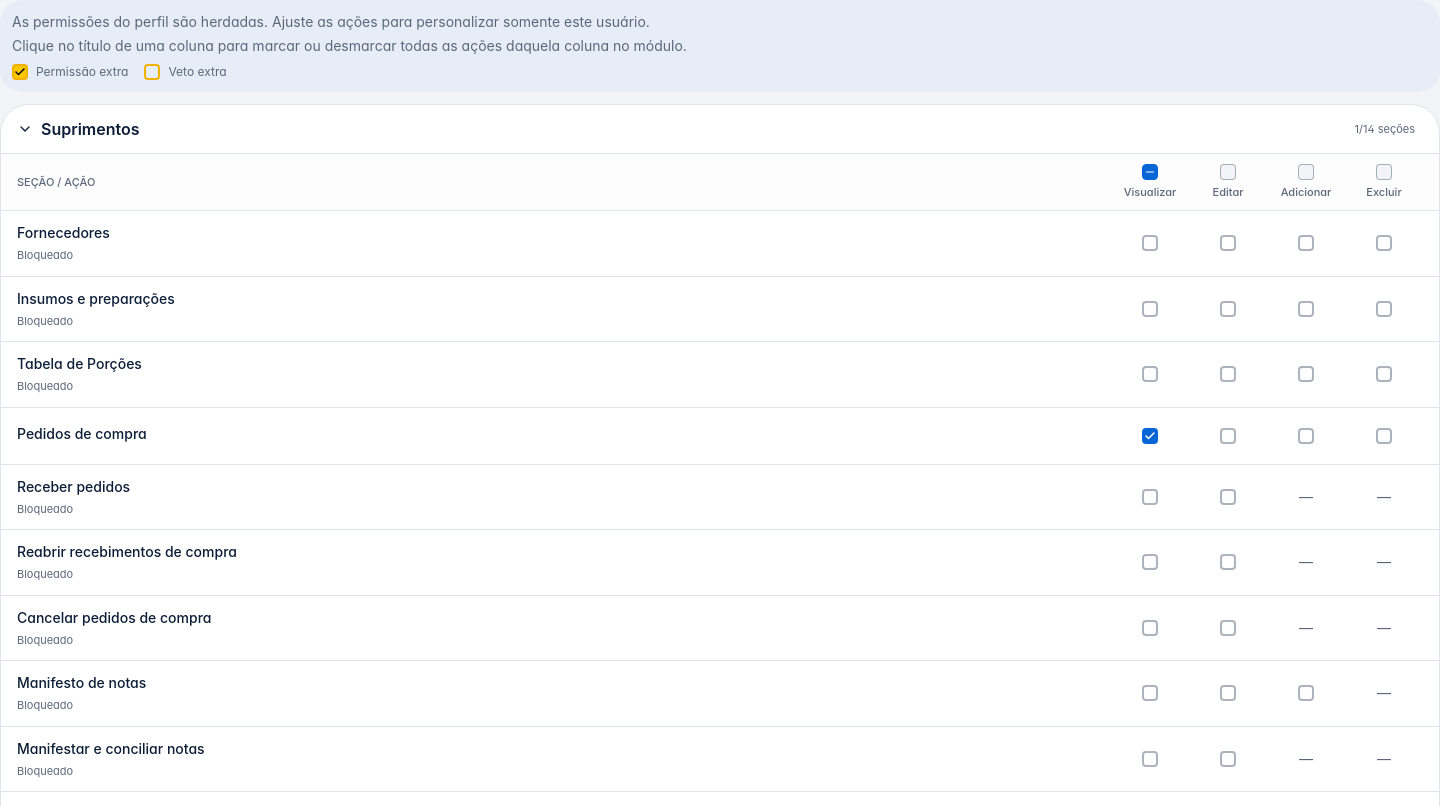
Test: matriz amigável de permissões › destaca a exceção e restaura o perfil sem alterar a base
Click the checkbox named "Pedidos de compra: Editar". click: (1228,436)
box: [1220,428,1236,444]
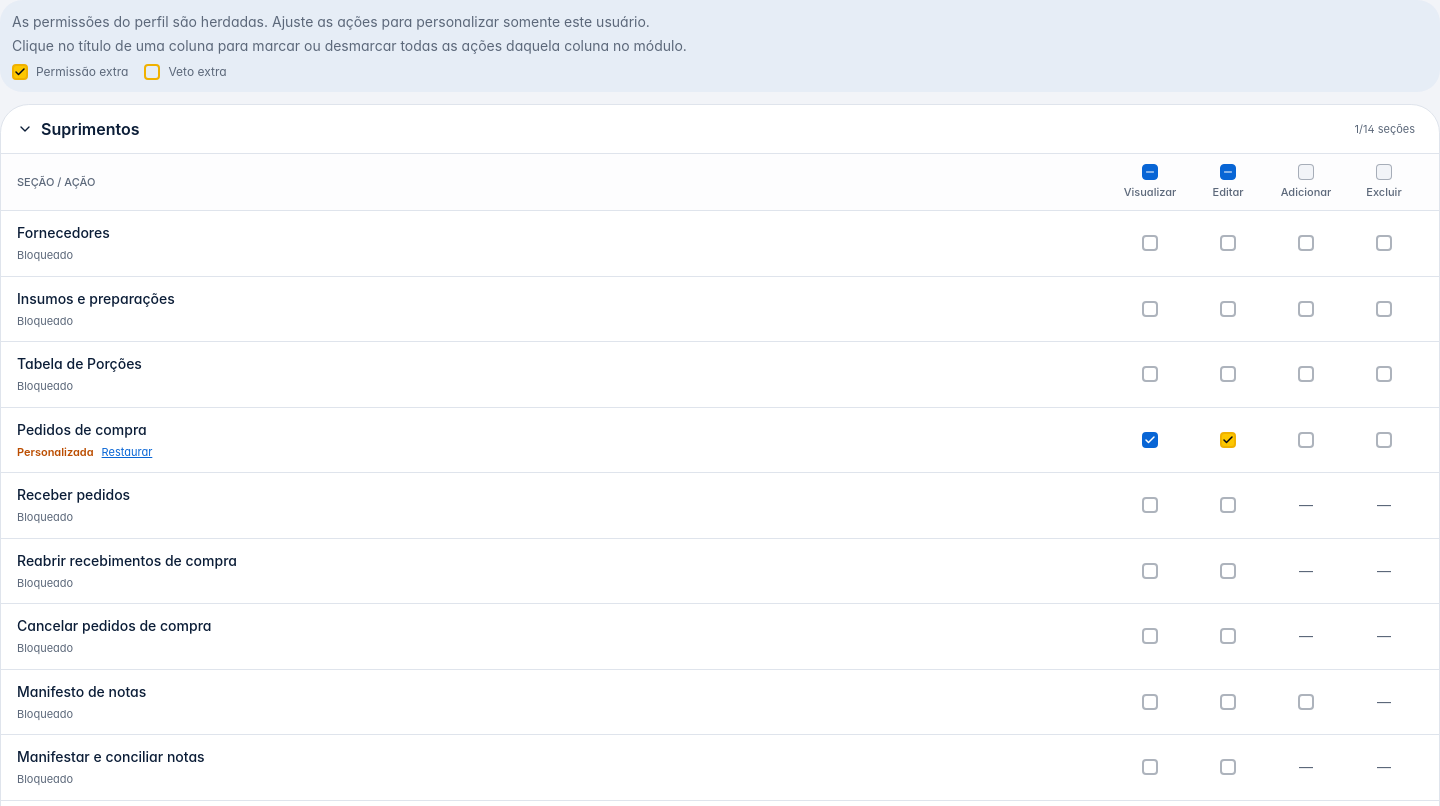
expect the checkbox named "Pedidos de compra: Editar" is checked: met, box [1220,432,1236,448]
expect the text "Personalizada" is shown: met, box [17,444,94,460]
Click the button with aria-label "Restaurar perfil em Pedidos de compra". click: (127,452)
box: [102,444,152,460]
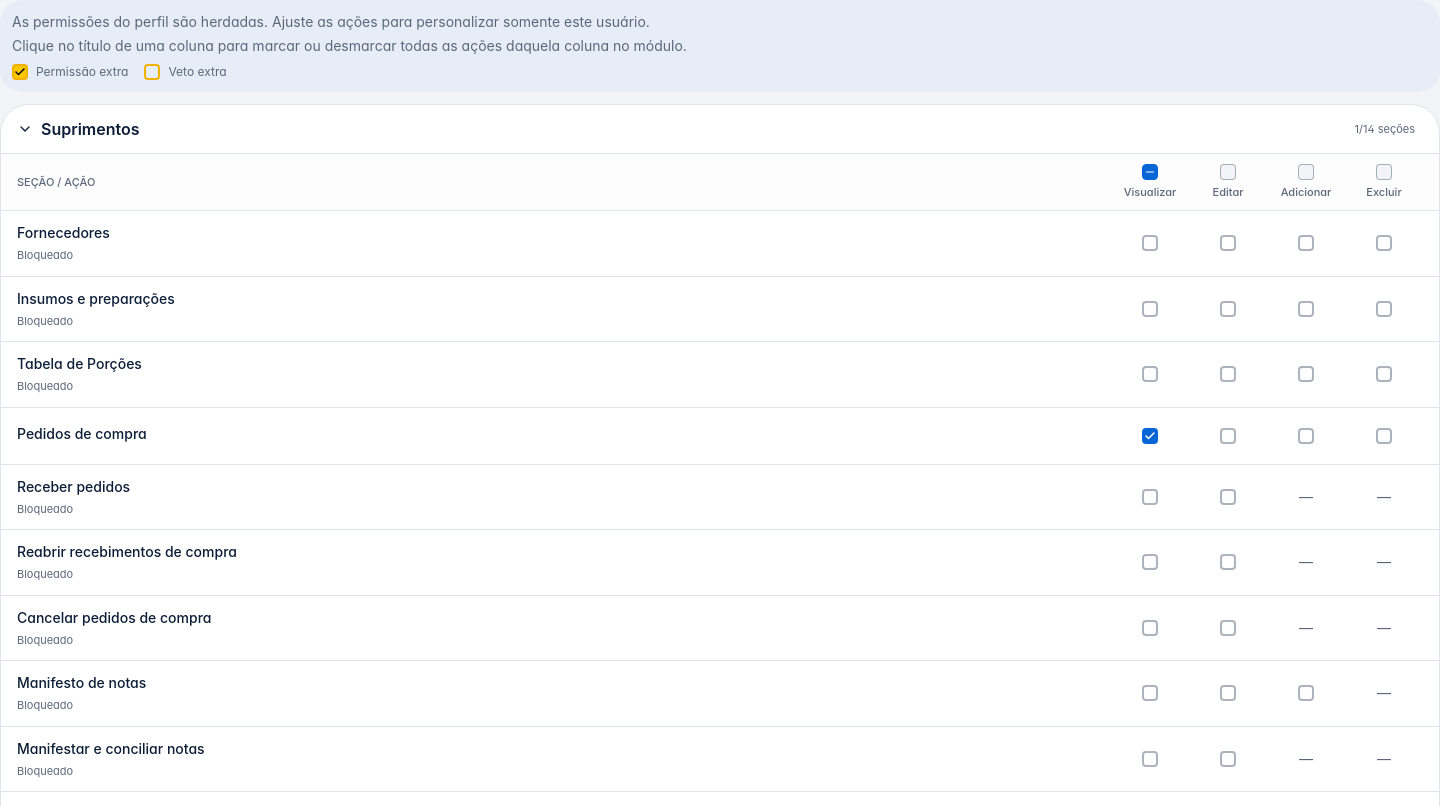
expect the checkbox named "Pedidos de compra: Editar" is not checked: met, box [1220,428,1236,444]
expect the text "Personalizada" is gone: met
